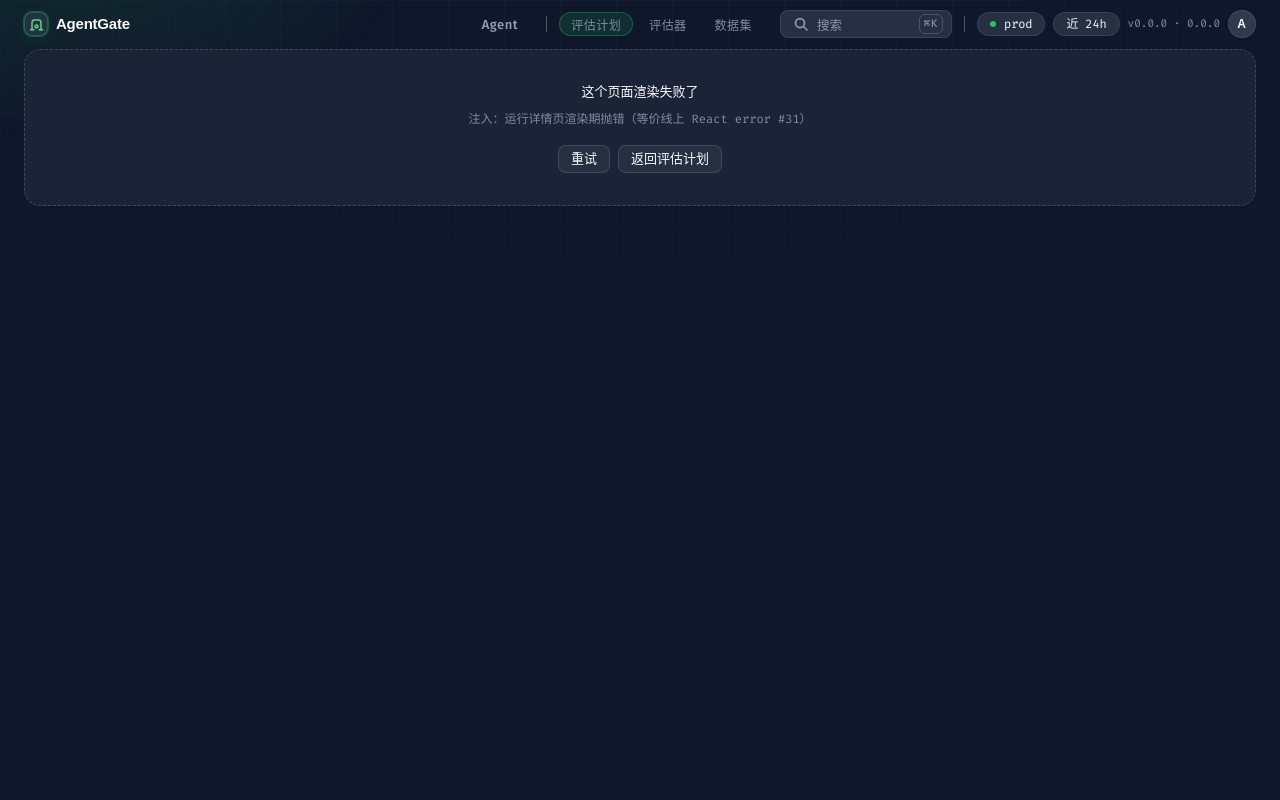
Test: 路由级围栏：页面炸了不带走顶栏 › 降级后顶栏仍可点：跳到别的页面正常渲染，且降级态自动复位
Check: the message "这个页面渲染失败了 注入：运行详情页渲染期抛错（等价线上 React error #31） 重试 返回评估计划" is shown, box [24,49,1256,206]
Click the button with test id "nav-workbench".
click(596, 24)  # box [559,12,633,36]
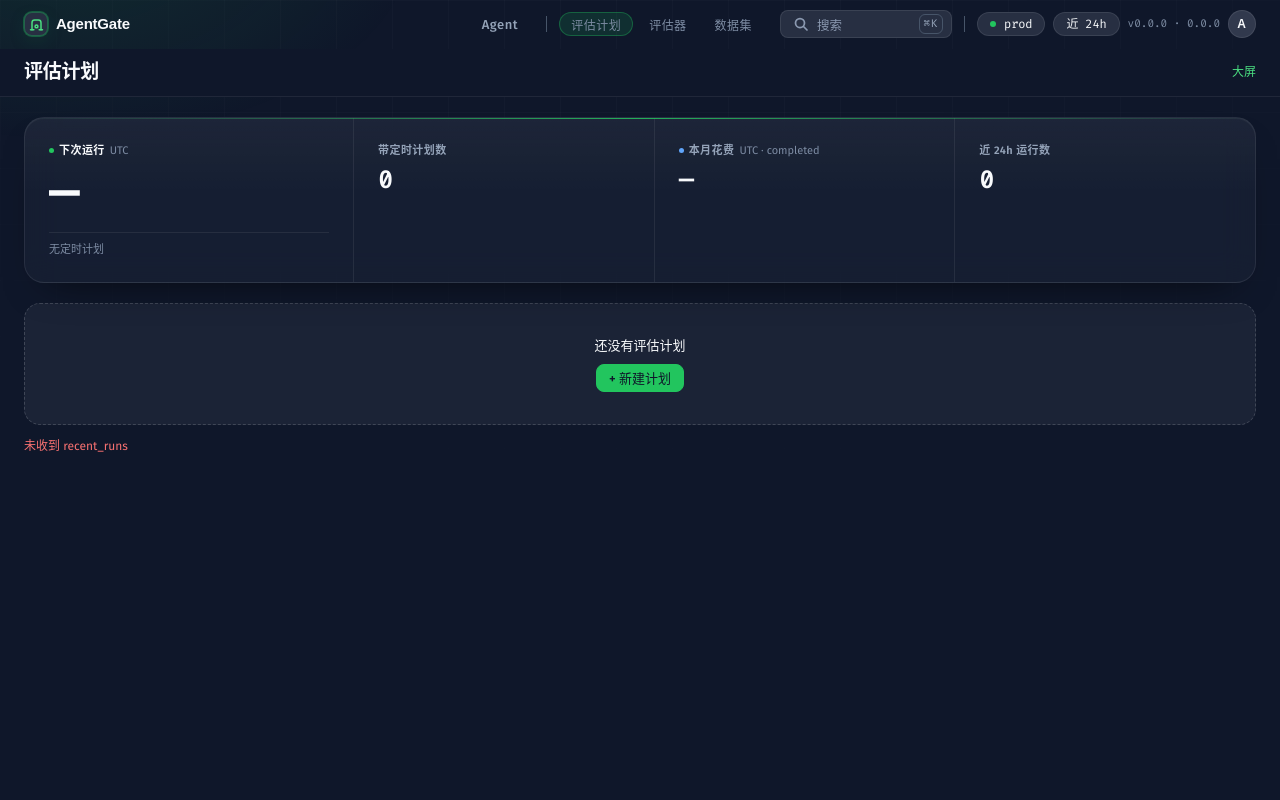
Check: the element with test id "page-workbench" is shown, box [24,49,1256,456]
Check: the message with test id "route-boundary" is gone
